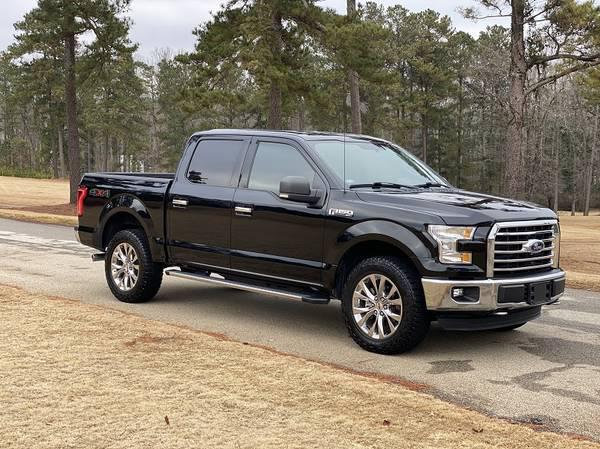Front_Bumper: (412, 224, 565, 314)
Front_Fender: (318, 188, 442, 289)
Front_Right_Door: (231, 191, 330, 287)
Front_Right_Window: (237, 136, 328, 205)
Front_Windshield: (306, 138, 451, 189)
Grille: (487, 218, 559, 278)
Hood: (357, 187, 556, 224)
Rear_Fender: (75, 174, 171, 266)
Rear_Right_Door: (167, 180, 237, 272)
Rear_Right_Window: (182, 138, 248, 189)
Right_Headlight: (425, 225, 477, 267)
Roof: (173, 128, 387, 191)
Wheel: (337, 253, 423, 352), (102, 229, 162, 304)
